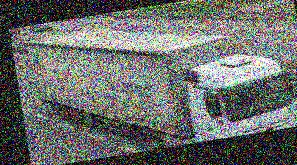truck: (25, 0, 297, 165)
